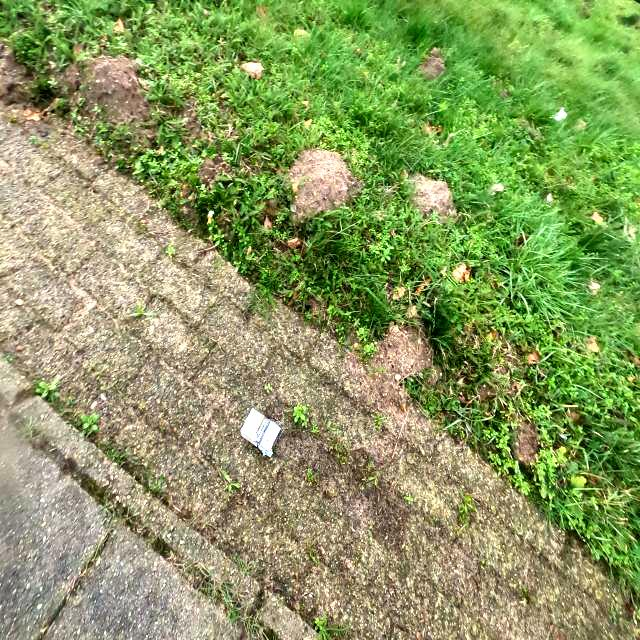Paper: (239, 406, 283, 458)
